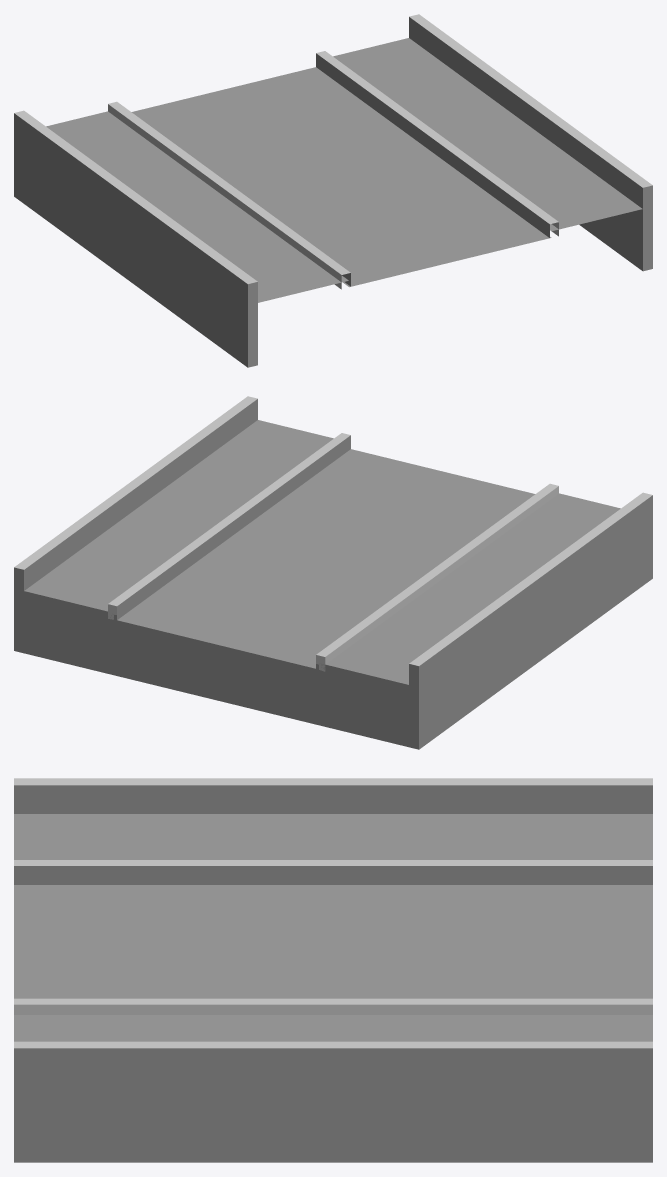
The model's file is port_tile_1x1_005.glb.
3 renders of one model, top to bottom at view 1: azimuth 30°, elevation 25°; view 2: azimuth 150°, elevation 25°; view 3: azimuth 270°, elevation 25°, orthographic. The views are drawn at different scales.
Visible parts, largest first — view 1: port_tile_1x1_005; view 2: port_tile_1x1_005; view 3: port_tile_1x1_005.
Boxes of the visible parts, x1,y1,x2,y2 form: port_tile_1x1_005: (14, 14, 652, 367); port_tile_1x1_005: (14, 396, 652, 749); port_tile_1x1_005: (14, 778, 652, 1162).
Bounding box in the file's own units: 8 × 1.58 × 8.
1 material, 1 textured.
